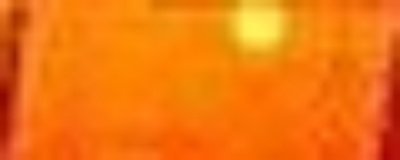Hotspot: (225, 1, 293, 49)
